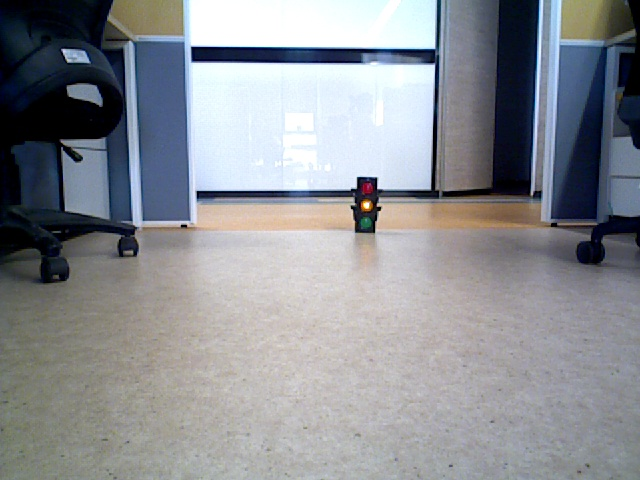yellow: (353, 177, 377, 229)
